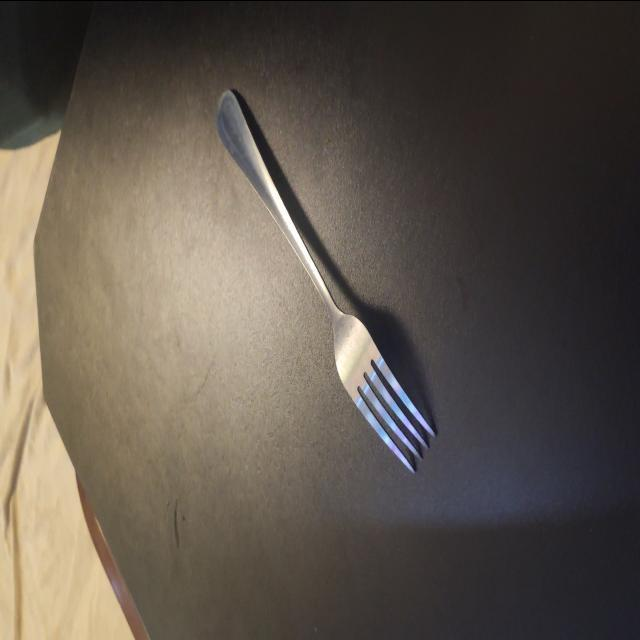plastic utensil: (216, 89, 435, 471)
